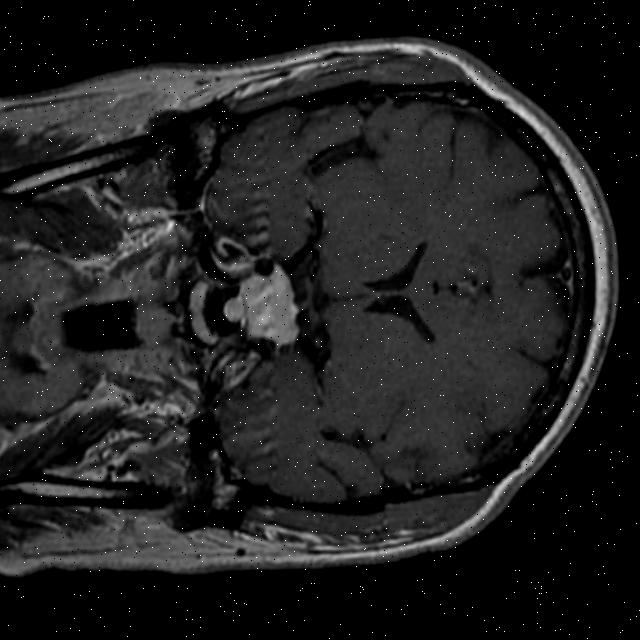Pituitary: (215, 259, 302, 353)
